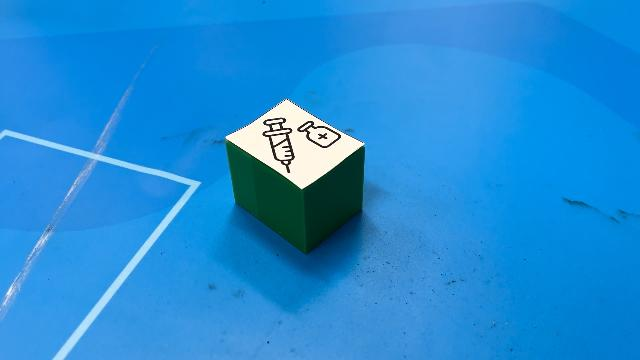syringe: (224, 98, 366, 254)
